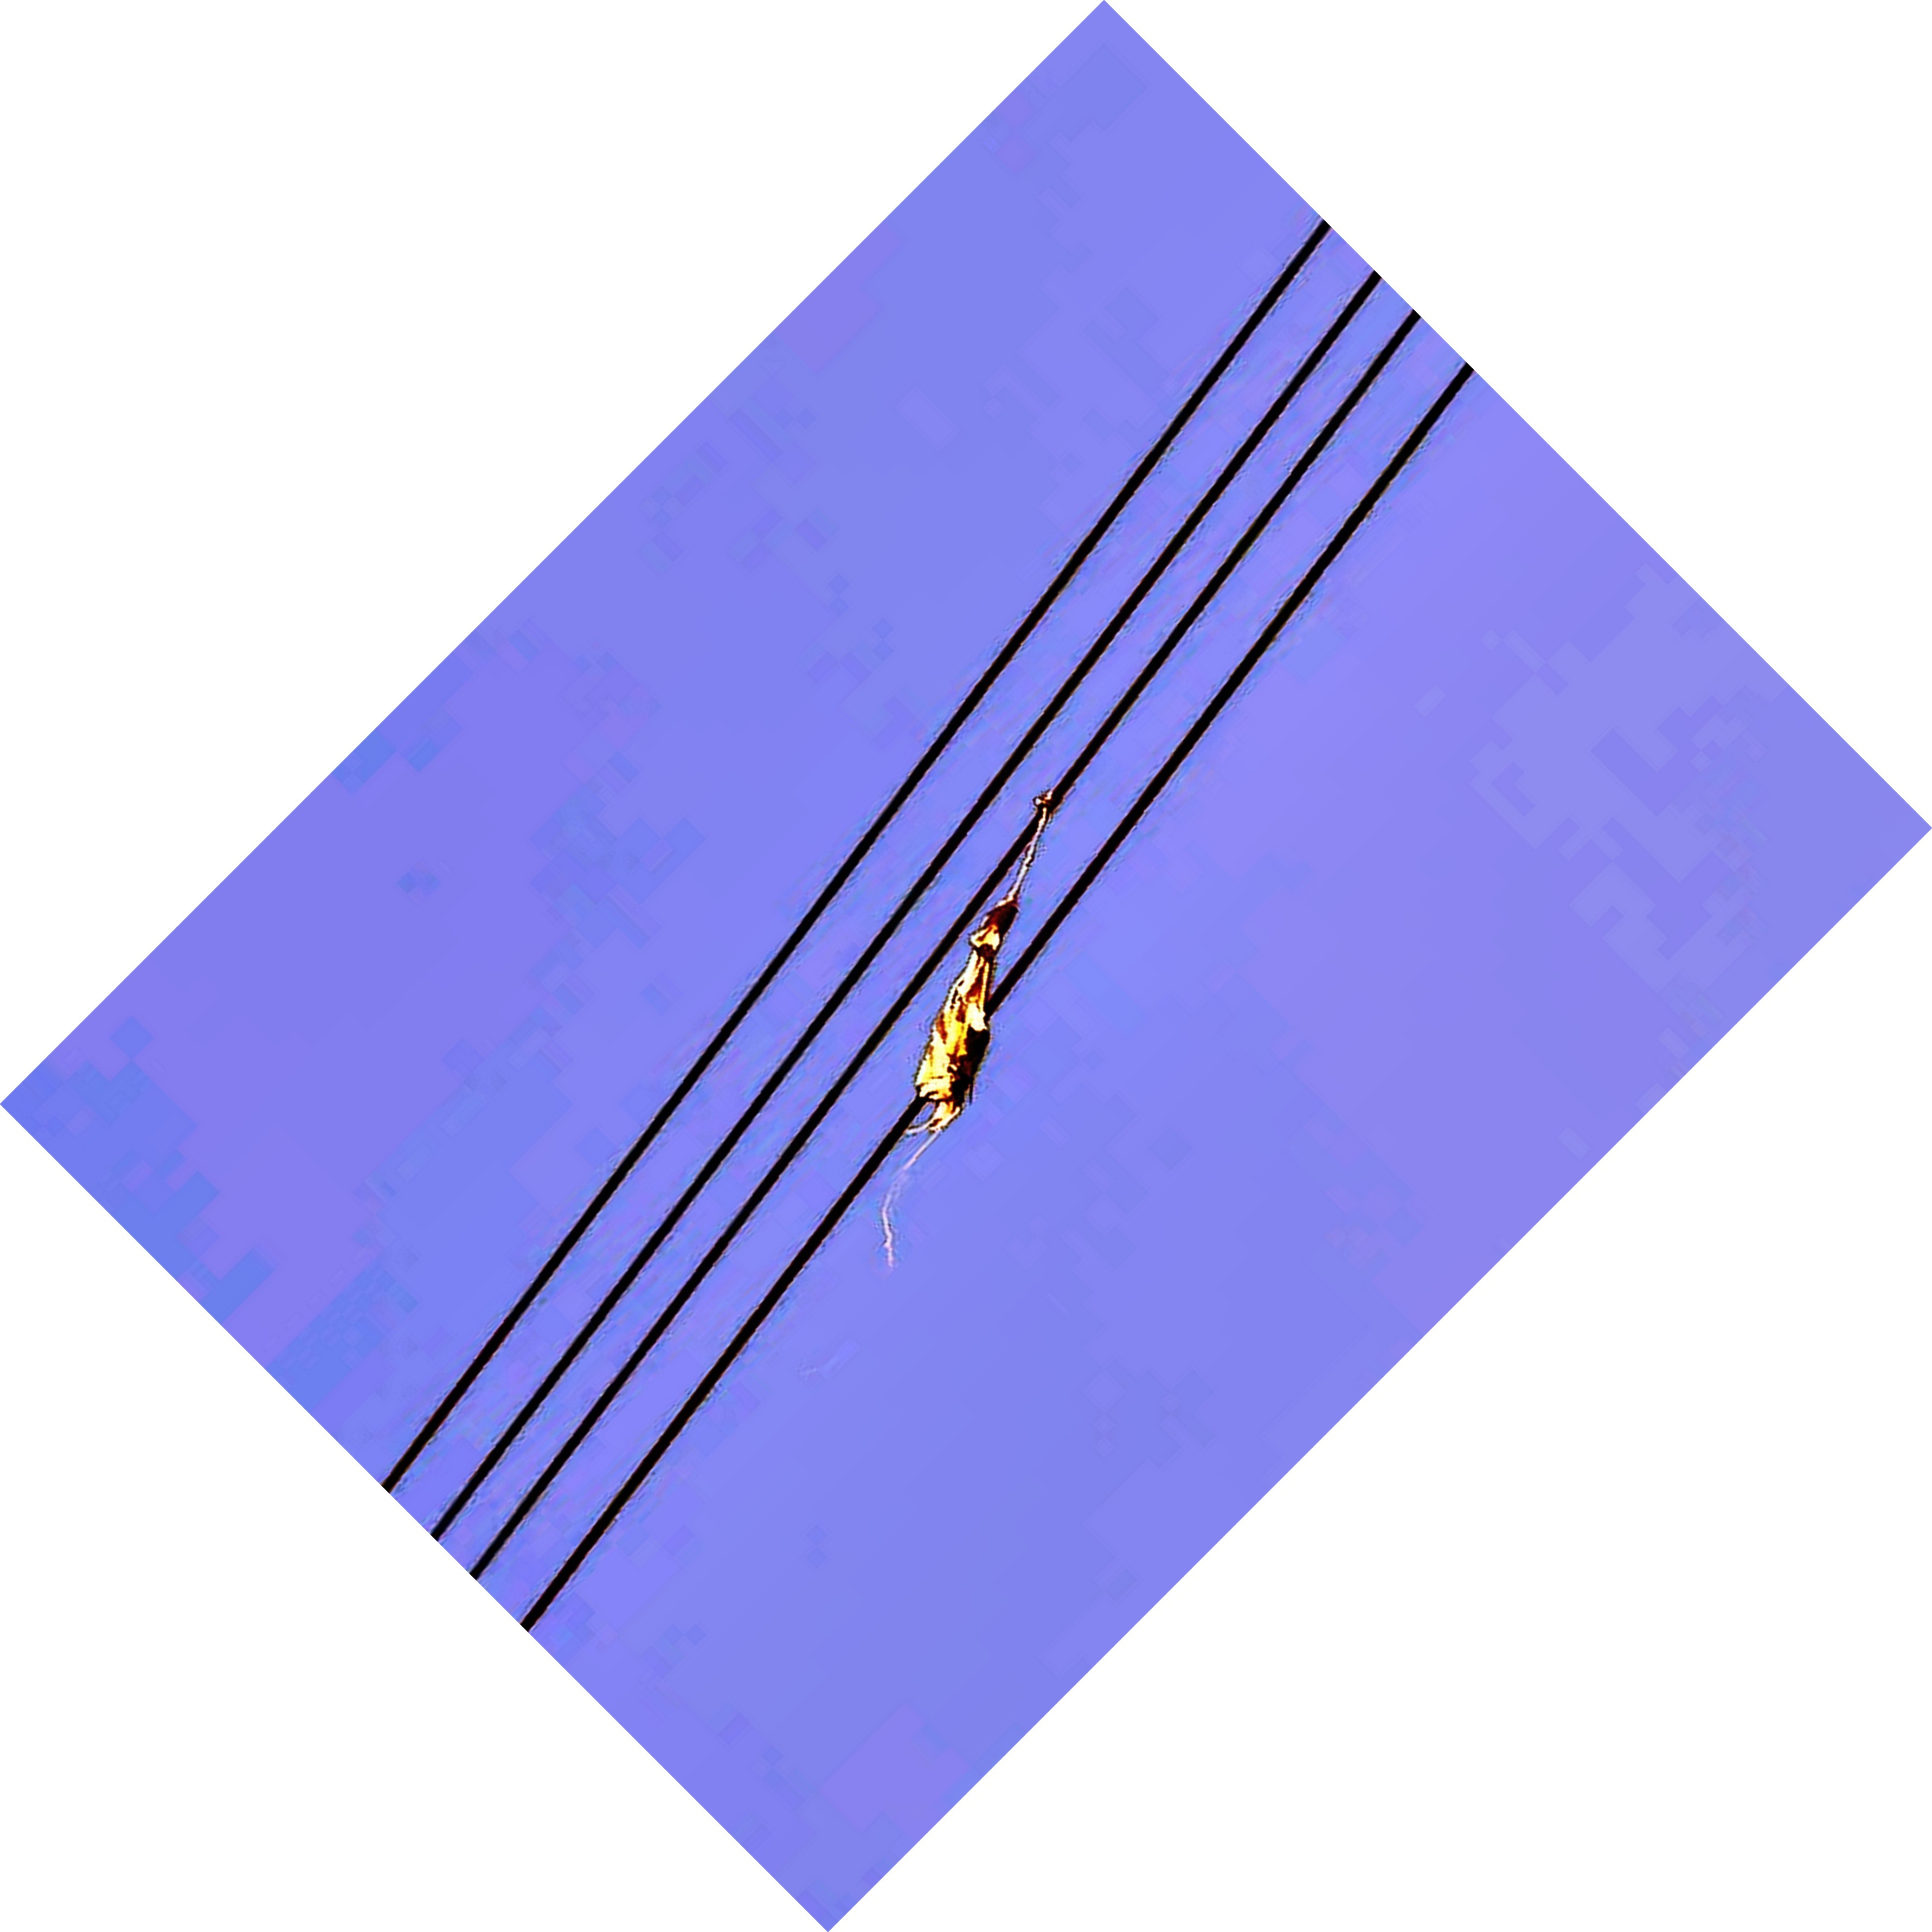wire foreign body: (870, 743, 1086, 1201)
